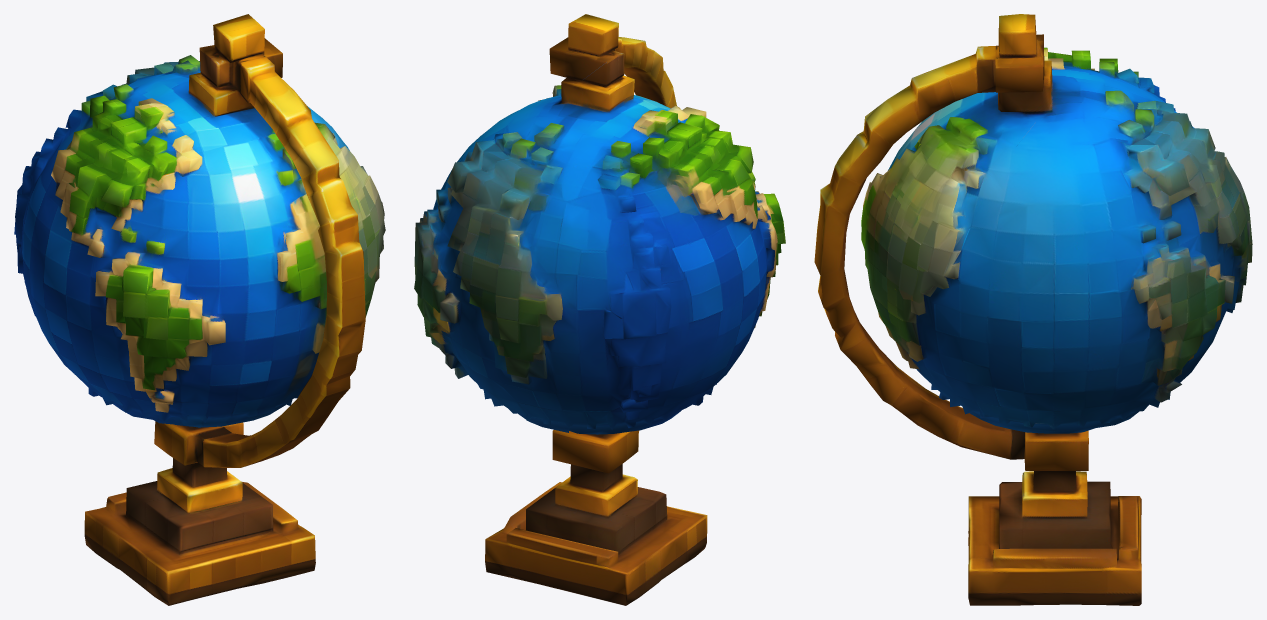
File: desk-globe.glb
3 renders of one model, left to right at view 1: azimuth 30°, elevation 25°; view 2: azimuth 150°, elevation 25°; view 3: azimuth 270°, elevation 25°, orthographic. The views are drawn at different scales.
Parts seen in each view (by area): view 1: tripo_node_327788e6-adf8-4c37-839f-316499ab8d47; view 2: tripo_node_327788e6-adf8-4c37-839f-316499ab8d47; view 3: tripo_node_327788e6-adf8-4c37-839f-316499ab8d47.
Part boxes in pixels (<box>): tripo_node_327788e6-adf8-4c37-839f-316499ab8d47: <box>14,14,385,605</box>; tripo_node_327788e6-adf8-4c37-839f-316499ab8d47: <box>414,14,785,605</box>; tripo_node_327788e6-adf8-4c37-839f-316499ab8d47: <box>814,14,1252,605</box>.
Size of the model in its own units: 0.2397 by 0.4 by 0.2843.
Materials: 1 (1 with a texture image).
